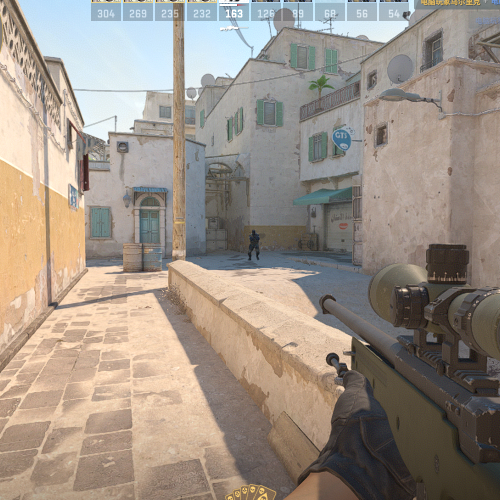ct_body: (248, 229, 260, 261)
ct_head: (251, 229, 256, 235)
